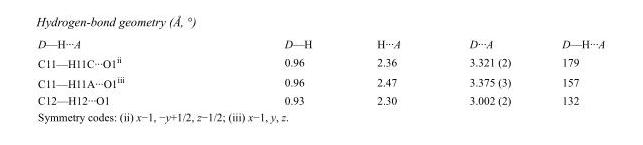table: (37, 37, 604, 106)
table column: (37, 37, 203, 106), (203, 37, 343, 106), (434, 37, 535, 106), (343, 37, 434, 106), (535, 37, 604, 106)
table row: (37, 51, 604, 71), (37, 71, 604, 91), (37, 91, 604, 106), (37, 37, 604, 51)
